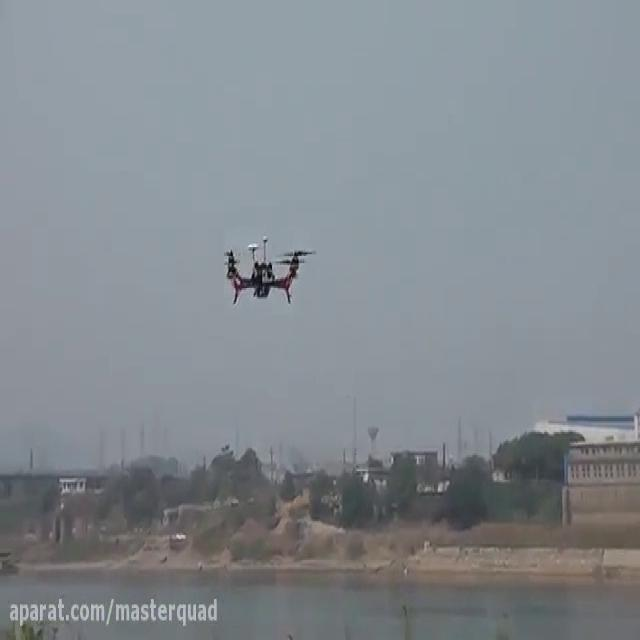drone: (219, 229, 318, 306)
